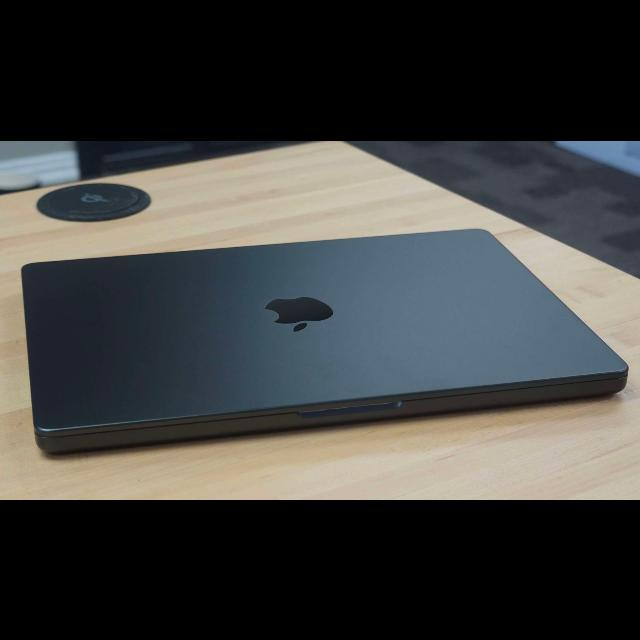laptop: (4, 227, 640, 457)
